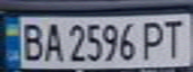2: (63, 20, 87, 63)
5: (84, 20, 103, 63)
6: (118, 19, 142, 62)
9: (100, 20, 121, 62)
A: (39, 20, 66, 63)
B: (18, 19, 48, 62)
P: (139, 18, 169, 61)
T: (160, 16, 190, 58)
